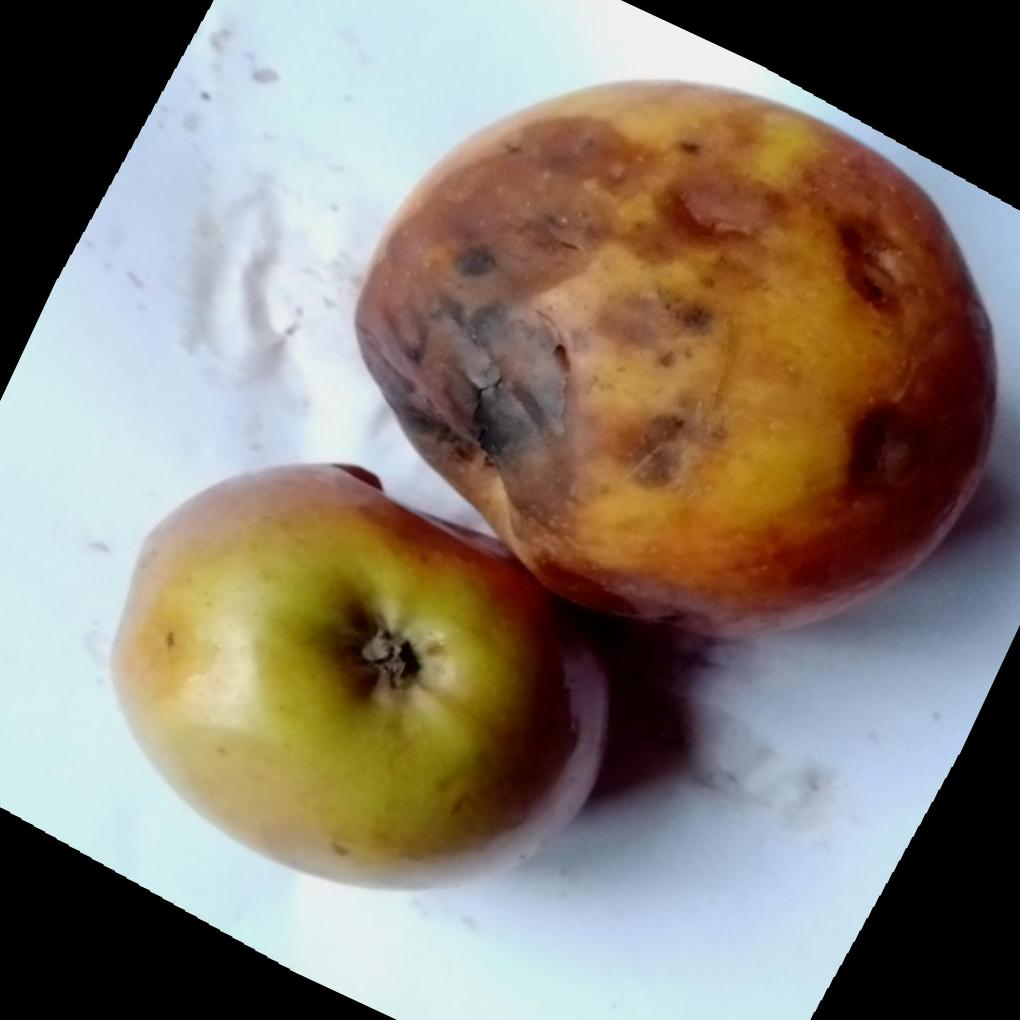FreshOrange: (108, 73, 1002, 890)
